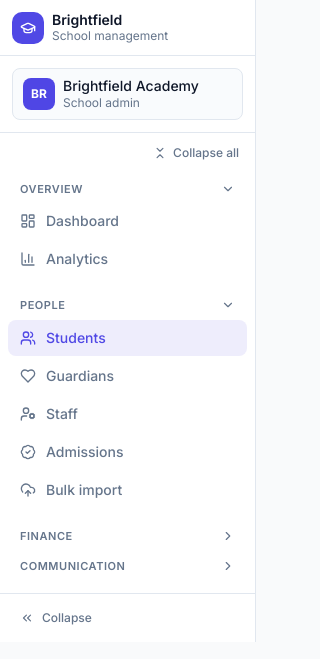
Test case: Sidebar sections › closes every section from one button, including the one you are in
The image size is (320, 659).
Click the button "Collapse all".
click(196, 152)  # box [145,140,247,164]
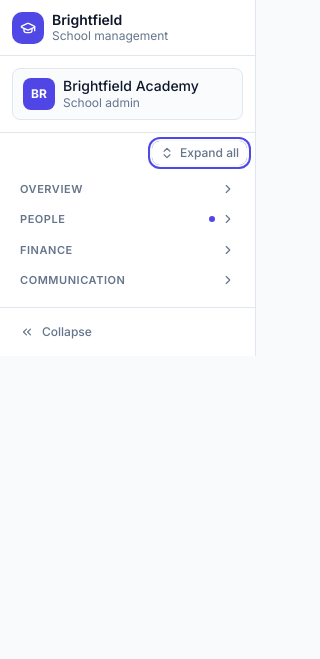
Result: the button "Overview" is collapsed at [8,176,247,203]
Result: the button "People" is collapsed at [8,207,247,234]
Result: the link "Students" is gone
